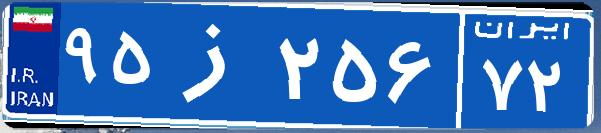2: (273, 28, 330, 110), (525, 38, 570, 115)
5: (330, 28, 385, 110), (110, 28, 158, 105)
6: (385, 28, 445, 110)
7: (475, 38, 525, 113)
9: (57, 26, 110, 107)
ز: (158, 15, 273, 115)
